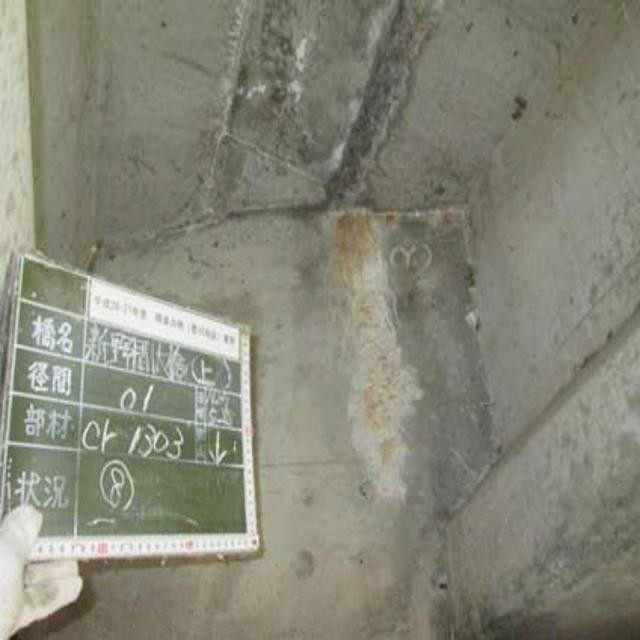freelime: (334, 208, 416, 512)
